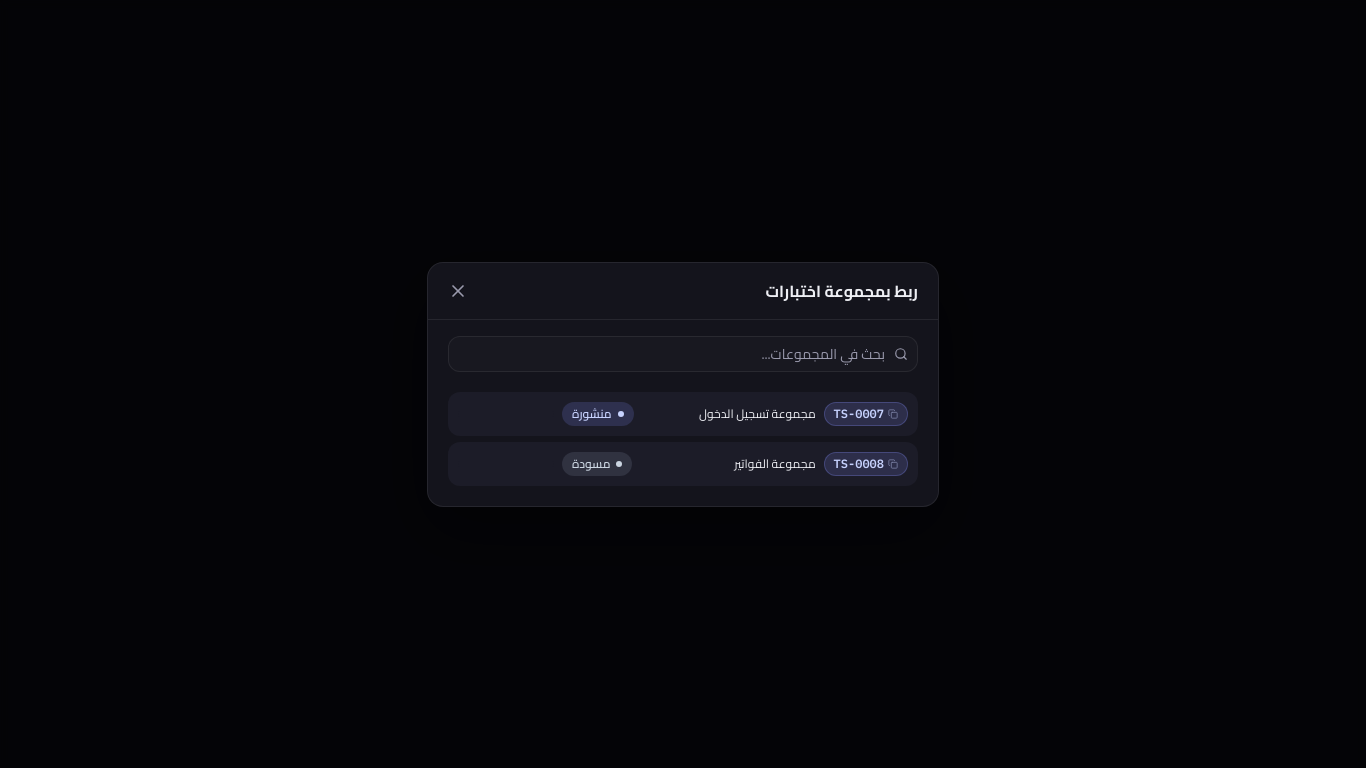
Test case: LinkSuiteDialog › filters the list as it is typed into
Expected: the button "مجموعة تسجيل الدخول" is shown, x1=642 y1=406 x2=816 y2=422
Type "الفواتير" into the field labelled "بحث في المجموعات..." at (683,354), box x1=448 y1=336 x2=918 y2=372
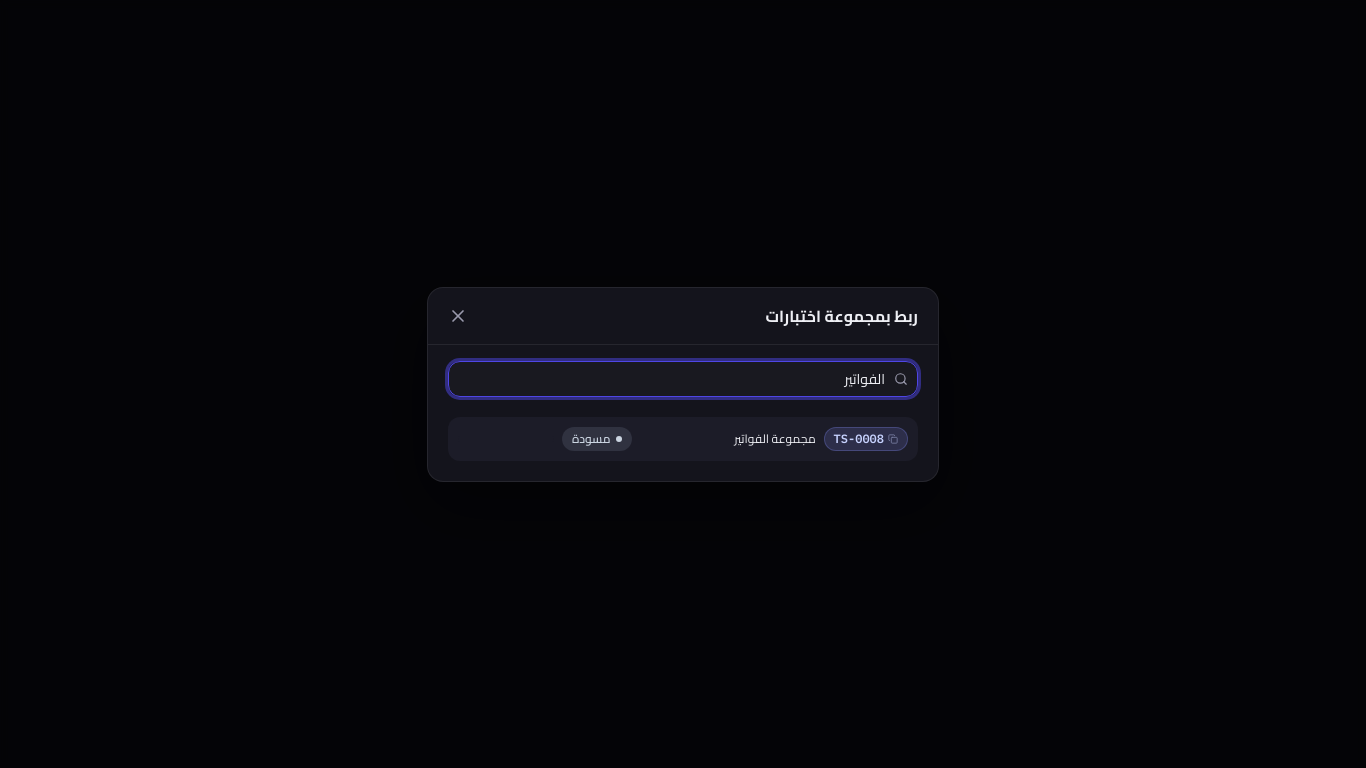
Expected: the button "مجموعة الفواتير" is shown, x1=640 y1=430 x2=816 y2=446
Expected: the button "مجموعة تسجيل الدخول" is gone
